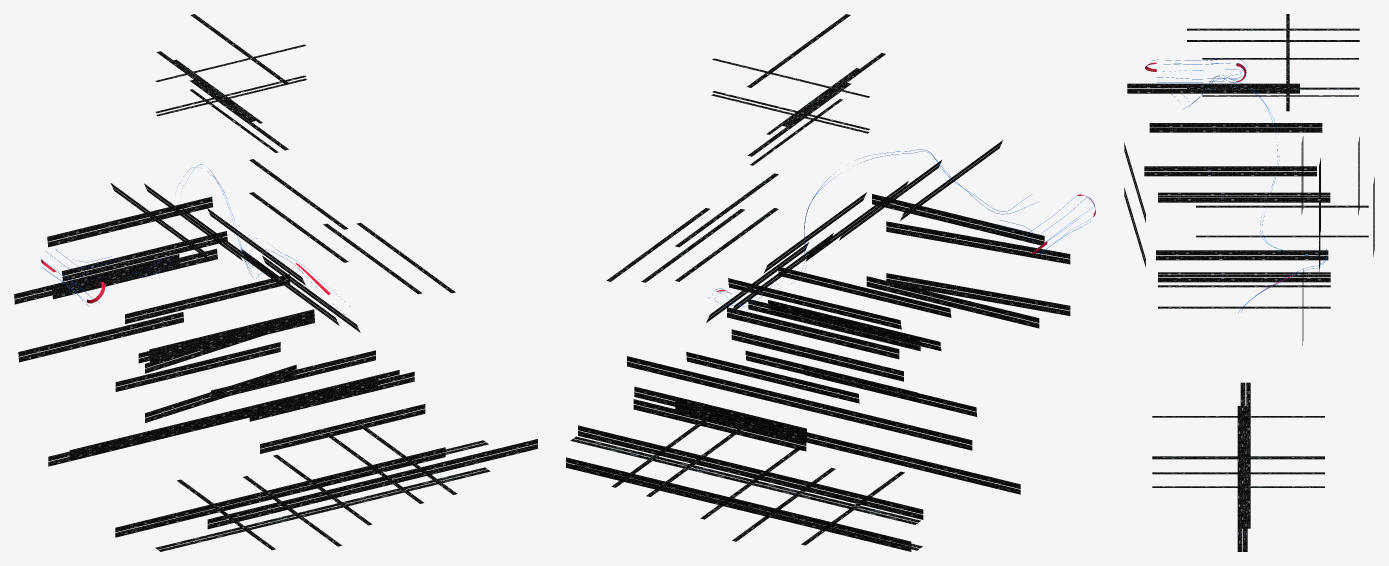
Rendered from Transparent.obj.
3 renders of one model, left to right at view 1: azimuth 30°, elevation 25°; view 2: azimuth 150°, elevation 25°; view 3: azimuth 270°, elevation 25°, orthographic. The views are drawn at different scales.
Bounding box in the file's own units: 5885 × 5818 × 3140.
Materials: 6 (6 with a texture image).
